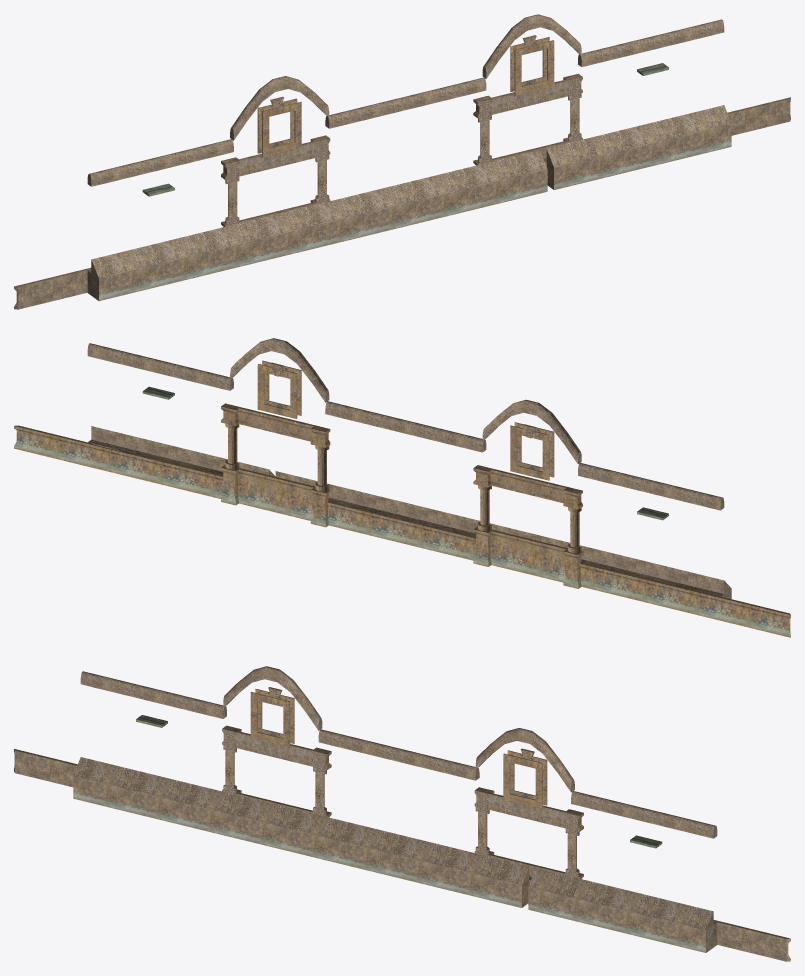
File: domside2.fbx
3 renders of one model, top to bottom at view 1: azimuth 30°, elevation 25°; view 2: azimuth 150°, elevation 25°; view 3: azimuth 330°, elevation 25°, orthographic.
Parts seen in each view (by area): view 1: domside2; view 2: domside2; view 3: domside2.
Part boxes in pixels (bbox=[...]): domside2: bbox=[14, 14, 790, 309]; domside2: bbox=[14, 338, 790, 637]; domside2: bbox=[14, 666, 790, 961].
Bounding box in the file's own units: 286800 × 60000 × 10002.
